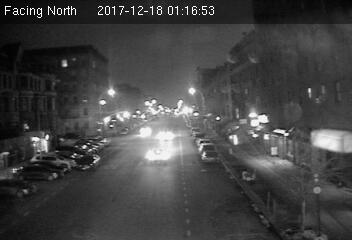car: (143, 145, 171, 165), (75, 153, 102, 172), (201, 151, 220, 164)
